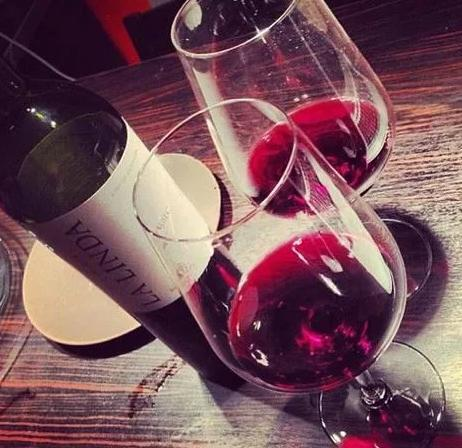wine bottle: (0, 56, 268, 387)
wine label: (27, 117, 214, 315)
